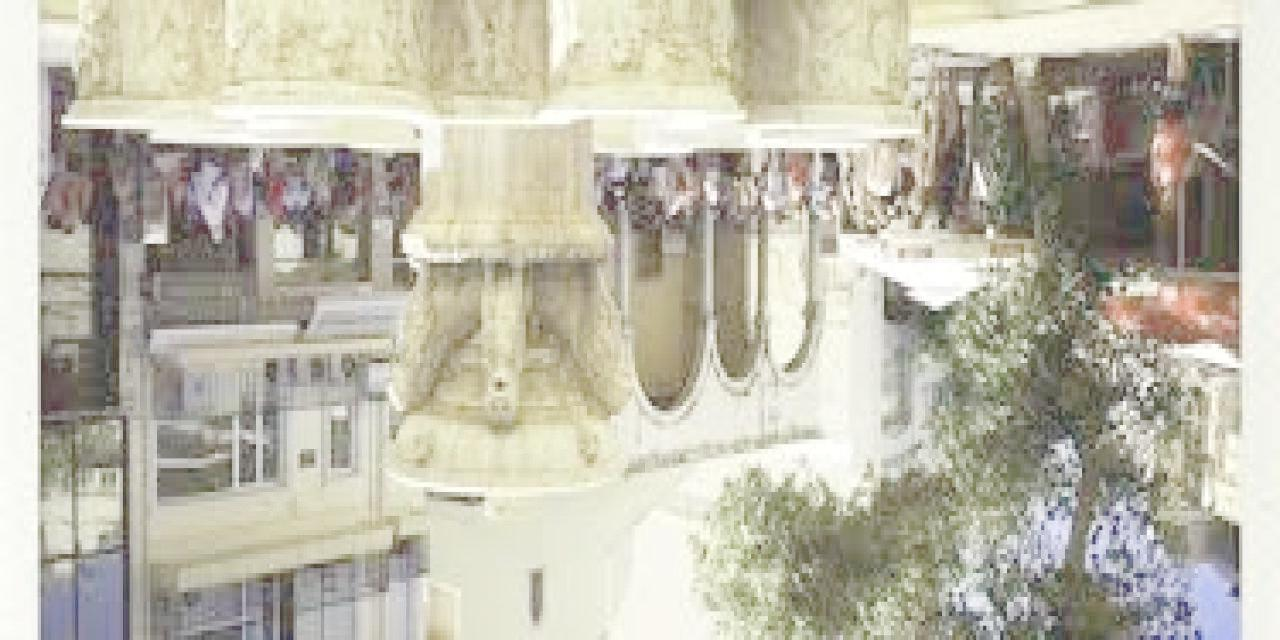Liontaria: (56, 3, 915, 492)
